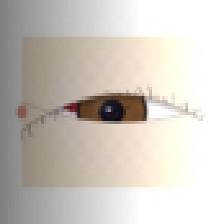hemorrhage_spot: (46, 60, 146, 140)
